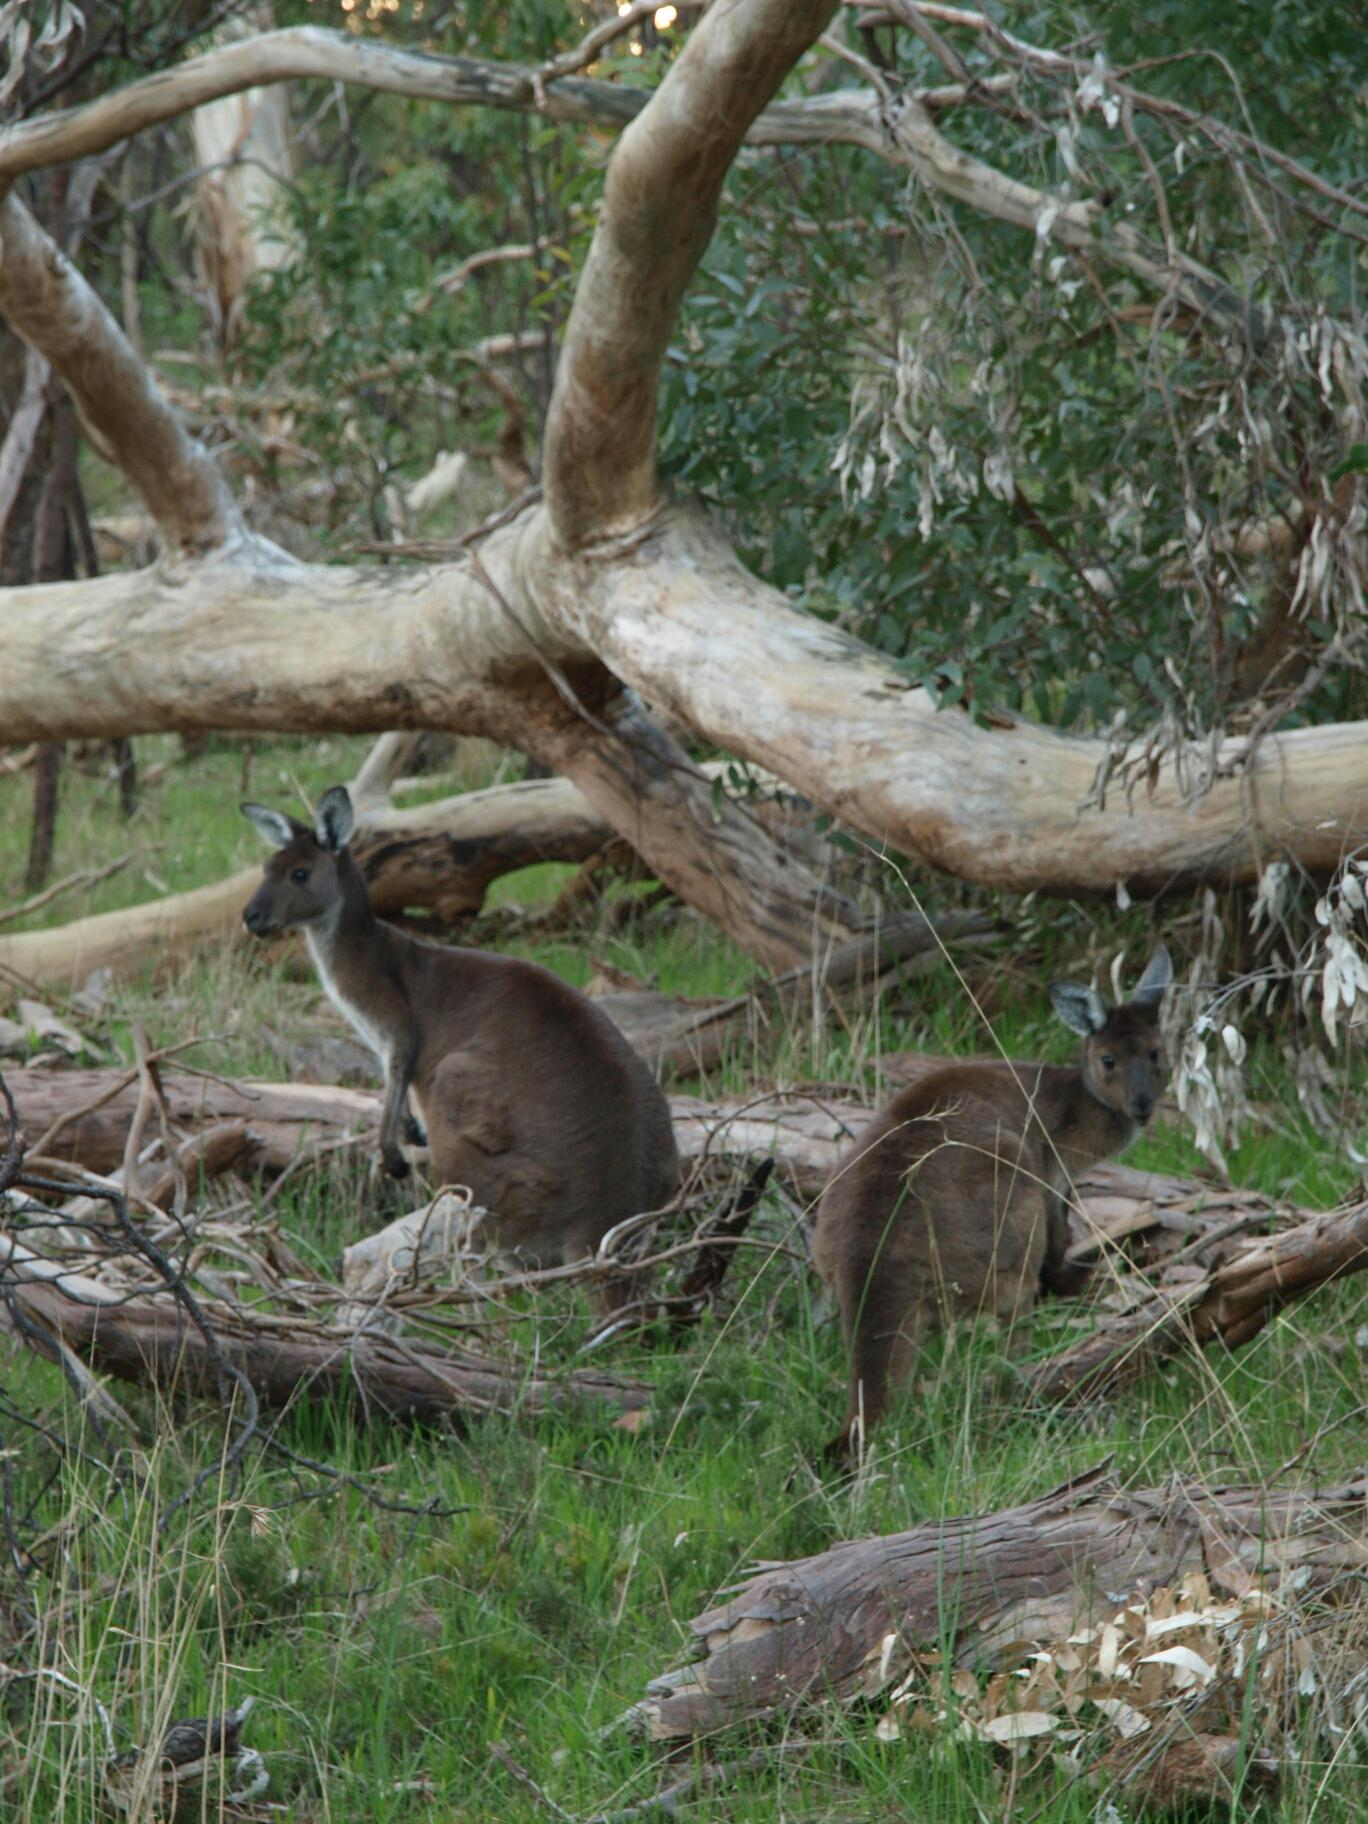Western grey kangaroo: (233, 787, 776, 1330), (747, 964, 1190, 1497)
